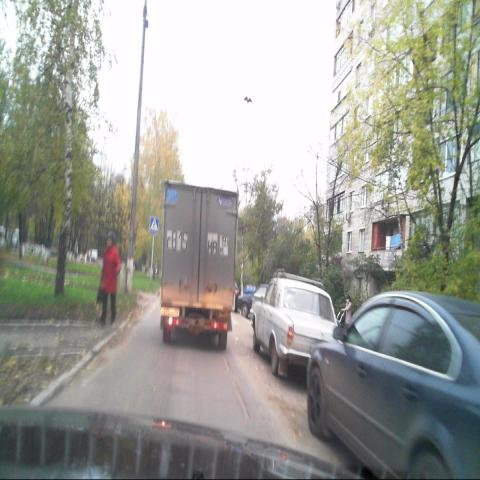5_19_1: (149, 217, 159, 233)
